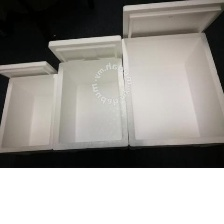foam_box: (118, 0, 223, 150), (45, 31, 132, 153), (0, 57, 62, 156)
